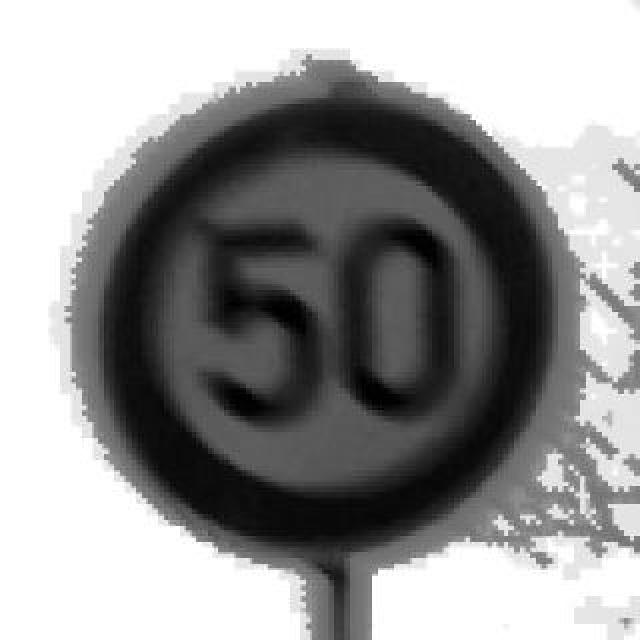50 kph: (82, 70, 562, 558)
